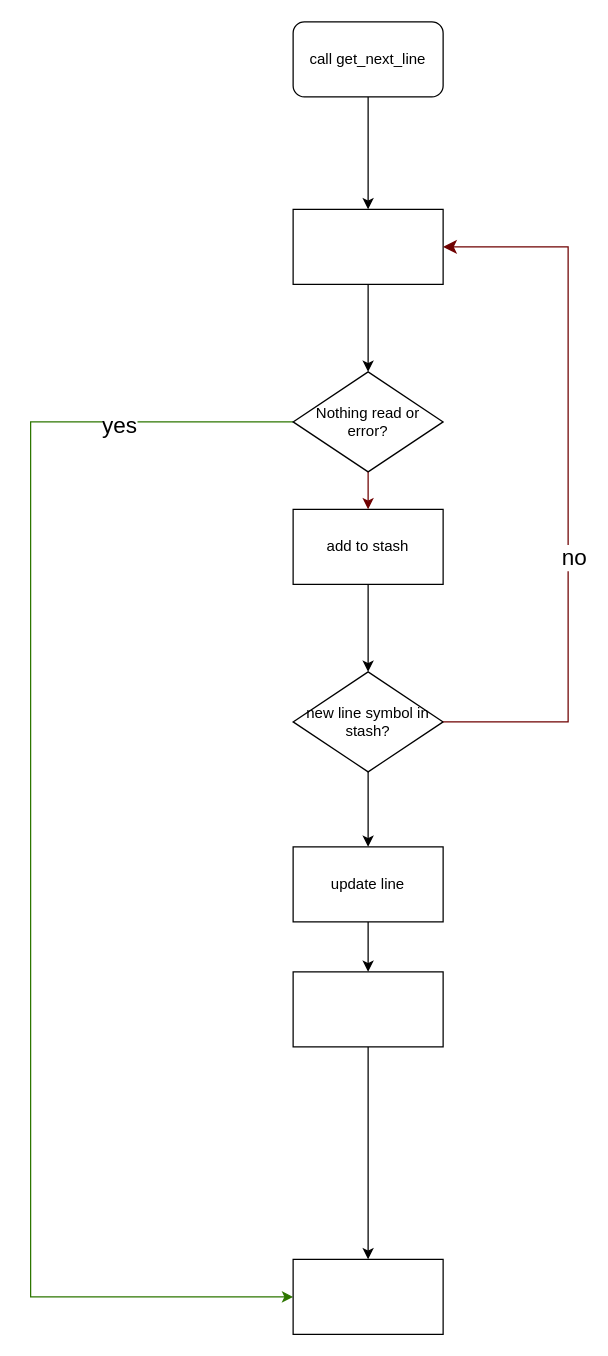
This 608x1356 diagram has some shape labels left out. The shapes that lost their labels are listed below. From the top down, each one's box as (x1, y1, x2, y2) in pixels, then its label:
(292, 208, 443, 284): read_new_line
(292, 971, 443, 1047): update stash (till new line)
(292, 1258, 443, 1334): return
